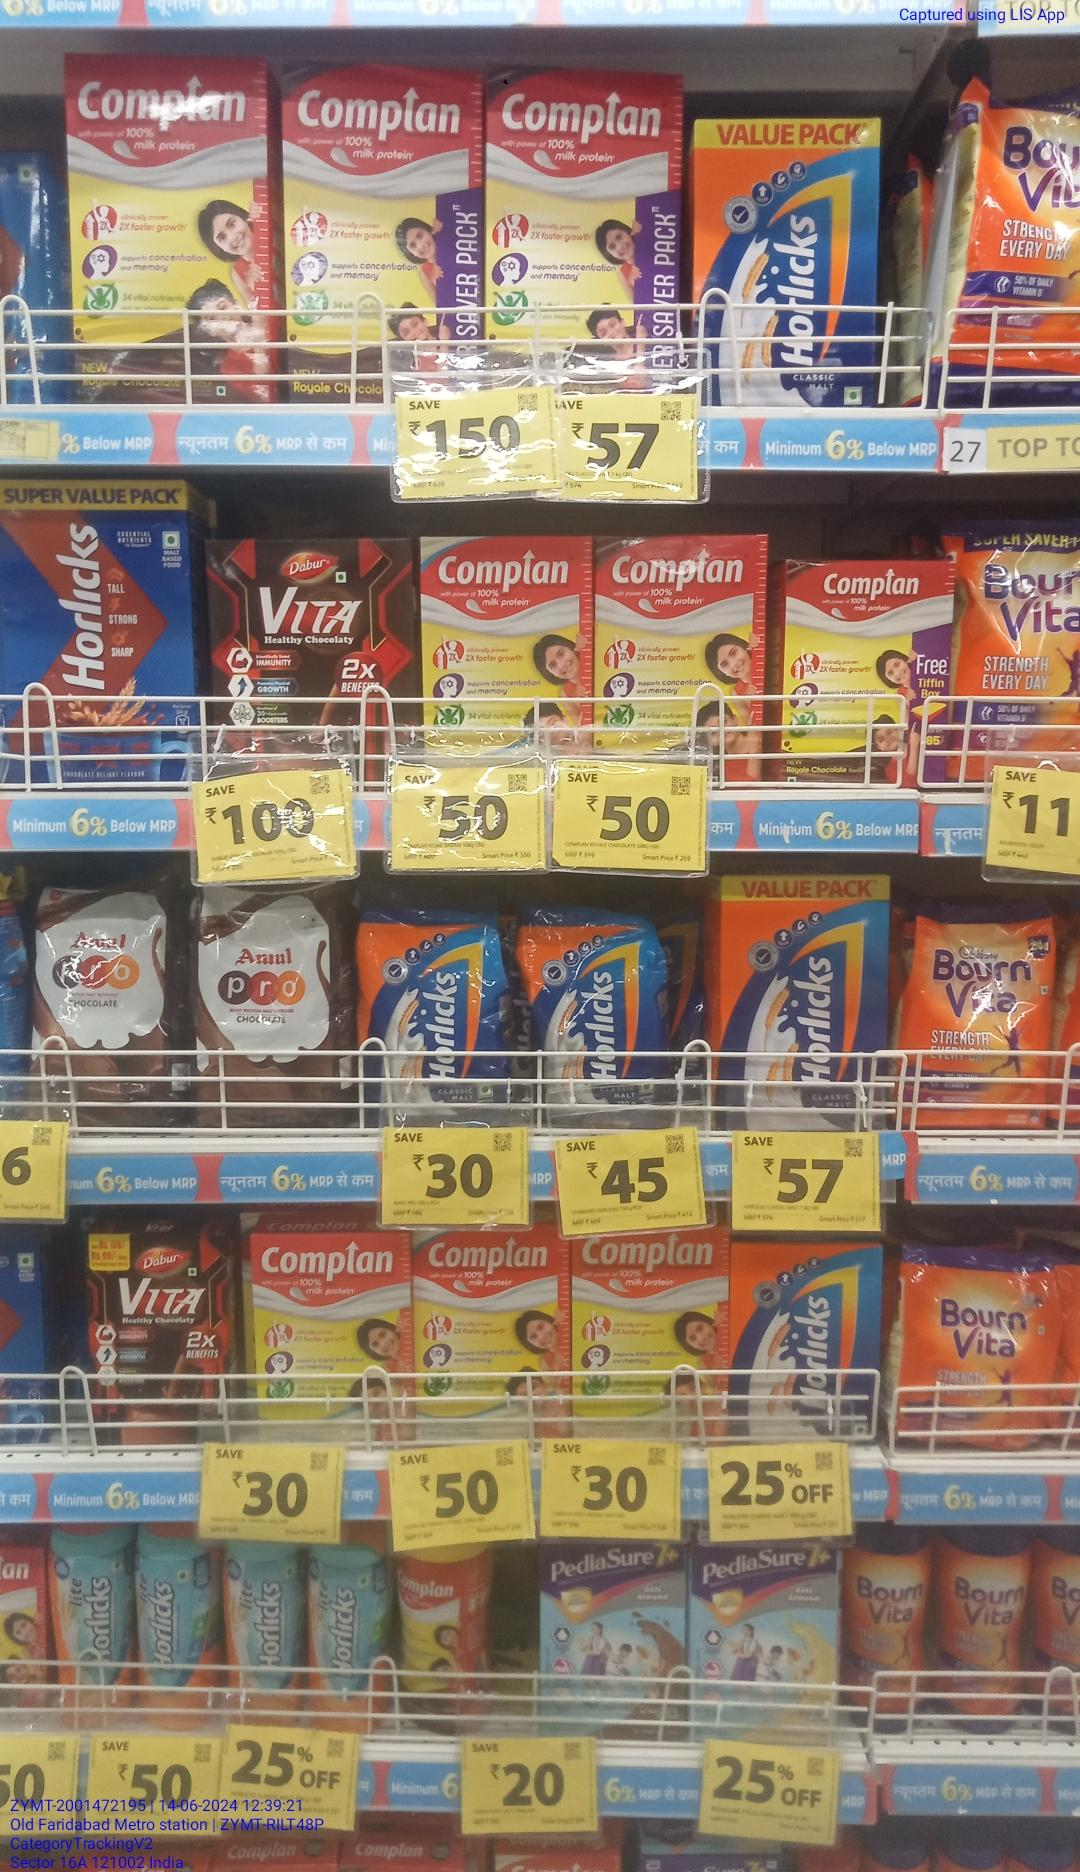BOURN_VITA_500_G_JAR: (843, 1525, 932, 1733), (941, 1530, 1026, 1731)
BOURN_VITA_500_G_POUCH: (894, 1243, 1044, 1453)
BOURN_VITA_750_G_POUCH: (957, 94, 1080, 402), (904, 914, 1058, 1129), (957, 527, 1080, 774)
COMPLAN_CHOCOLATE_1_KG_PACK: (66, 49, 269, 399), (278, 54, 483, 392), (486, 63, 688, 396)
COMPLAN_CHOCOLATE_200_GMS_PACK: (783, 557, 949, 784)
COMPLAN_CHOCOLATE_500_GMS_JAR: (395, 1548, 471, 1734)
COMPLAN_CHOCOLATE_500_GMS_PACK: (595, 534, 766, 780)
COMPLAN_CREAMY_CLASSIC_500_G_PACK: (419, 536, 593, 756), (413, 1232, 573, 1441), (249, 1232, 409, 1443)
COMPLAN_PISTA_BADAM_500_GMS_PACK: (575, 1239, 723, 1431)
HORLICKS_LITE_REGULAR_MALT_500_GM_JAR: (136, 1526, 219, 1729), (307, 1536, 391, 1728), (53, 1522, 130, 1729), (225, 1540, 301, 1720)
HORLICK_CHOCOLATE_500_G_PACK: (3, 478, 190, 791)
HORLICK_CLASSIC_MALT_500_G_PACK: (723, 870, 890, 1131), (732, 1237, 885, 1440)
HORLICK_CLASSIC_MALT_750_G_POUCH: (518, 900, 665, 1125), (360, 906, 500, 1124)
PEDIASURE_7_PLUS_CHOCOLATE_400_G_PACK: (541, 1544, 684, 1741)
